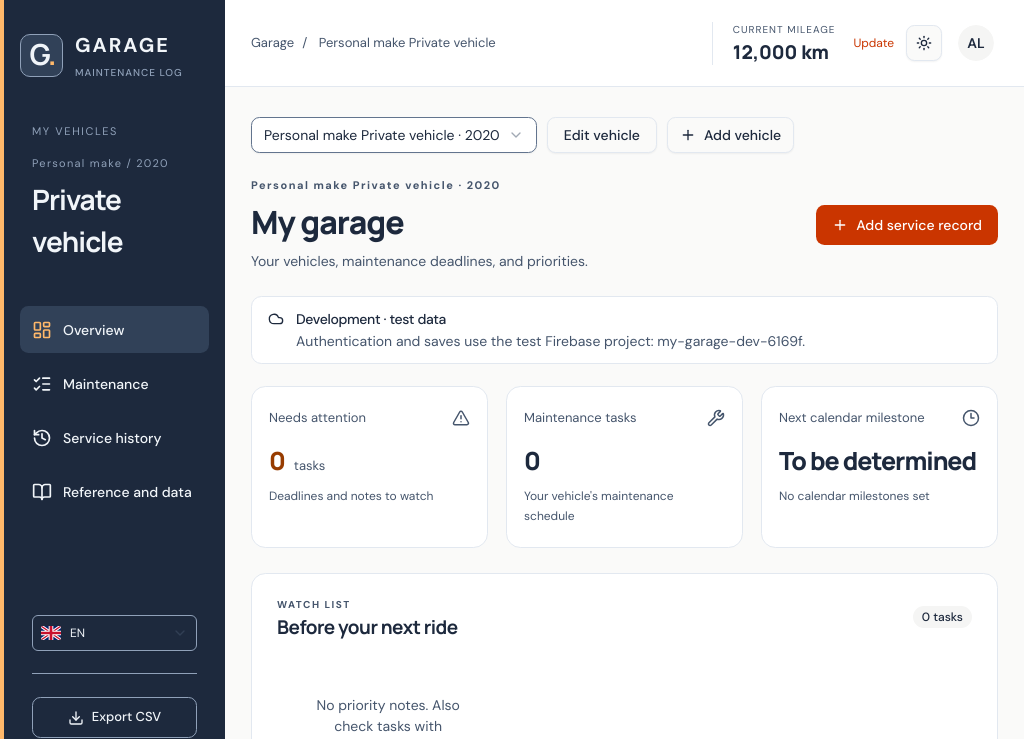
Test case: database-backed garage workflows › returns to anonymous landing examples when the account signs out
This screenshot has width=1024, height=739.
Expected: the button "Add service record" is shown, x1=816 y1=204 x2=998 y2=244
Expected: the text "Fictional demo" is not shown
Click the button with aria-label "Account menu" at (976,43), box x1=954 y1=21 x2=998 y2=65
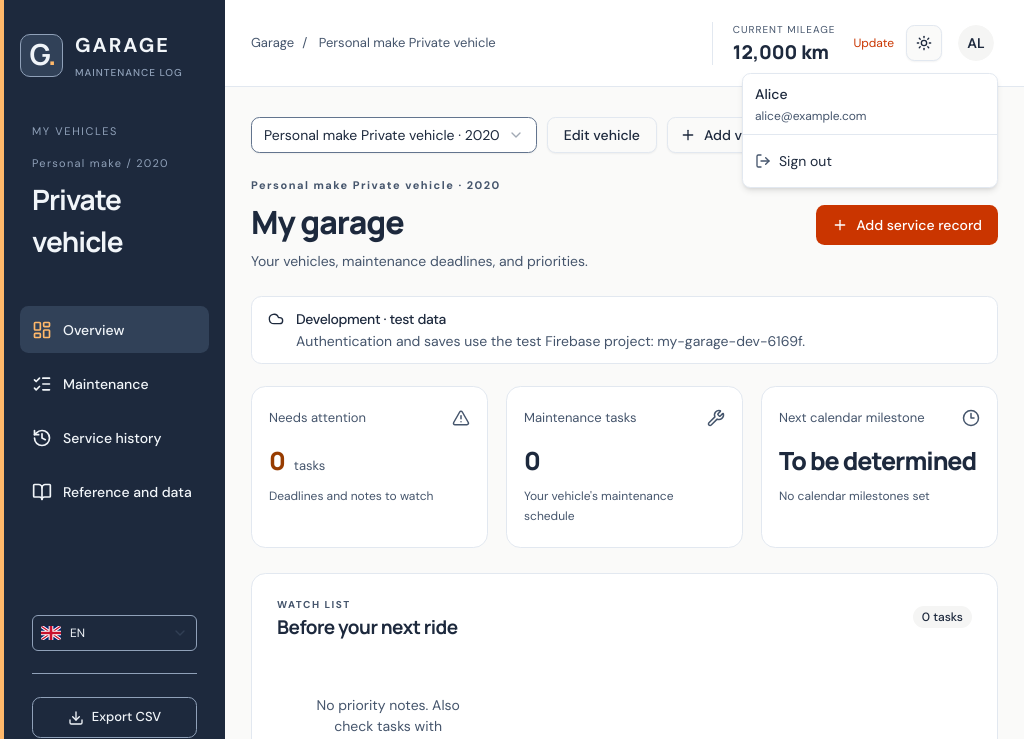
Click the menu item "Sign out" at (793,161), box x1=755 y1=152 x2=832 y2=170
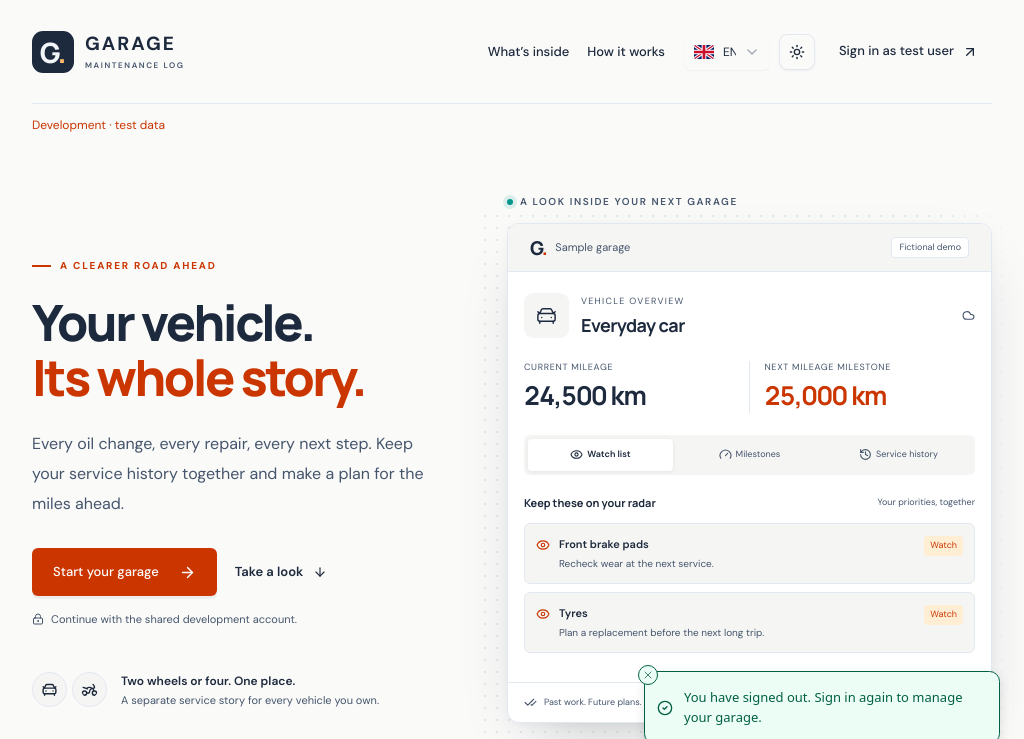
Expected: the text "Fictional demo" is shown, x1=891 y1=237 x2=969 y2=258
Expected: the text "Private vehicle" is gone
Expected: the text "alice@example.com" is gone
